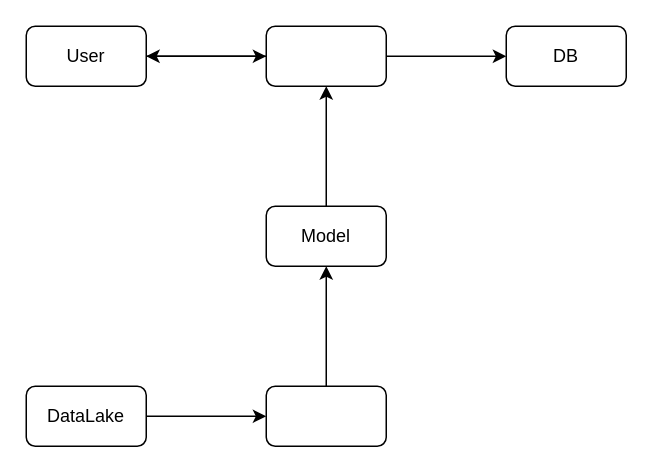
The diagram is 653 pixels wide and 473 high, and some of its shapes have lost their labels. Each missing label, with the box of its shape:
API inference: (265, 25, 386, 86)
Model training: (265, 385, 386, 446)
